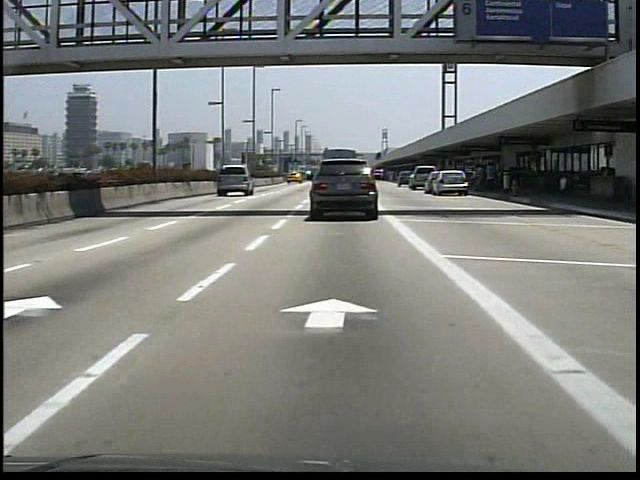person: (482, 159, 499, 196), (468, 164, 485, 197)
